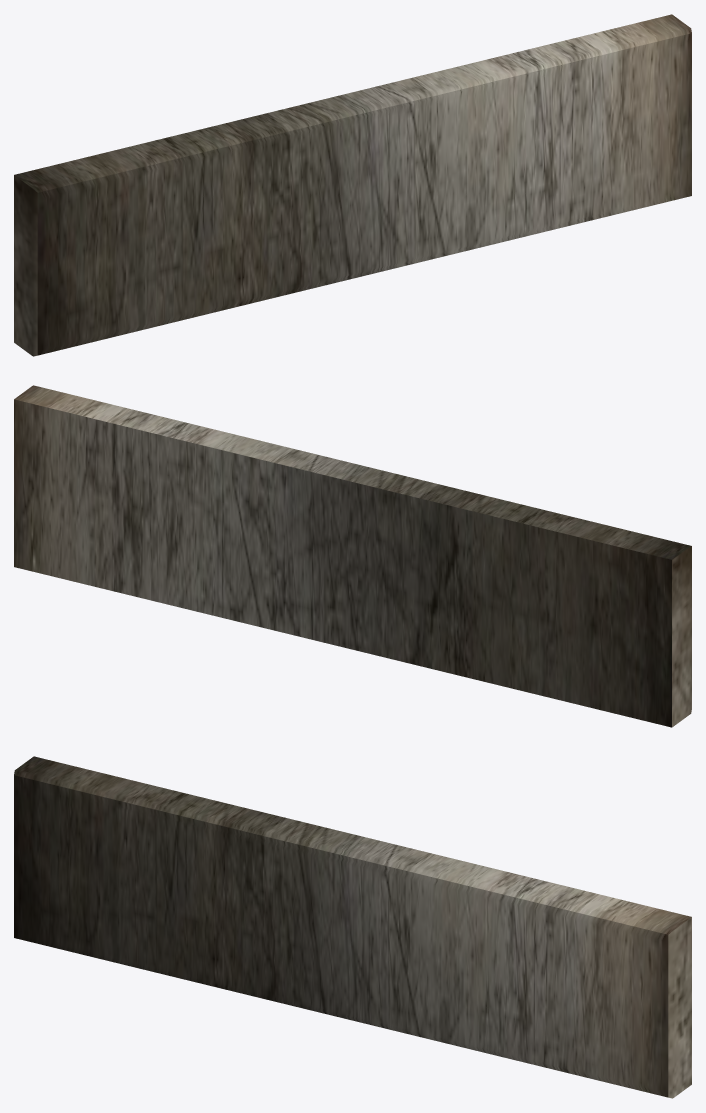
The model's file is bloque_clave_3.fbx.
3 renders of one model, top to bottom at view 1: azimuth 30°, elevation 25°; view 2: azimuth 150°, elevation 25°; view 3: azimuth 330°, elevation 25°, orthographic.
Visible parts, largest first — view 1: bloque_clave_3; view 2: bloque_clave_3; view 3: bloque_clave_3.
Part boxes in pixels (x1,y1,x2,y2): bloque_clave_3: (14, 14, 691, 356); bloque_clave_3: (14, 385, 691, 727); bloque_clave_3: (14, 756, 691, 1098).
Bounding box in the file's own units: 103 × 25.05 × 6.18.
